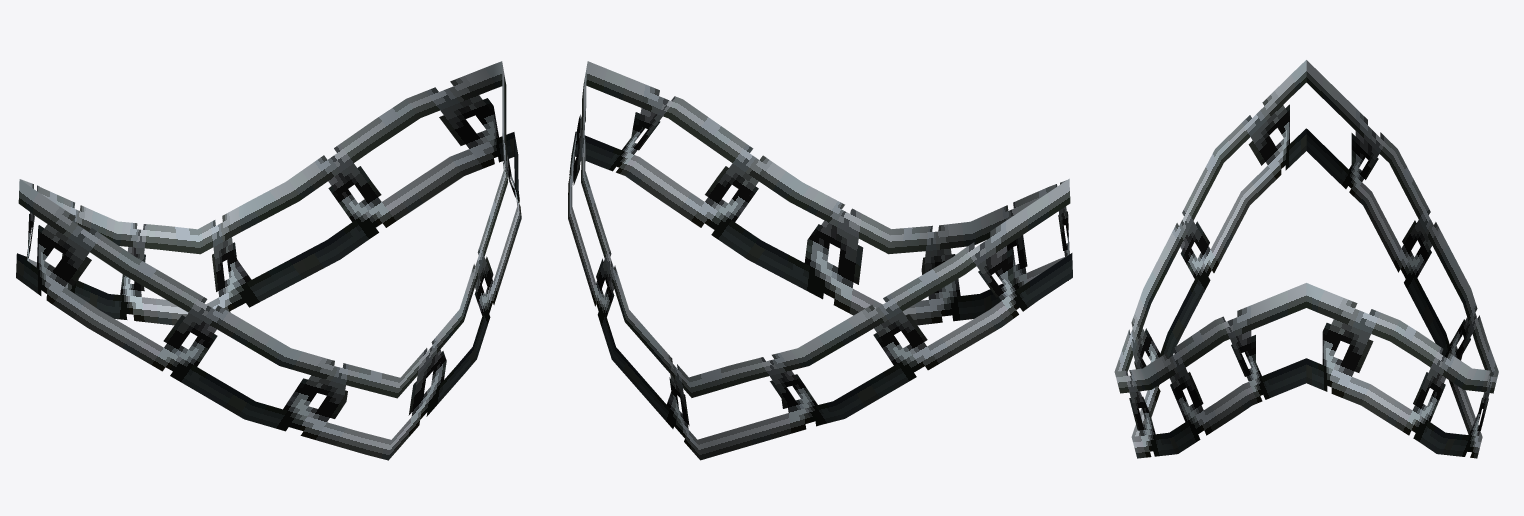
The model's file is M1_ZONE2_CHAIN.glb.
3 renders of one model, left to right at view 1: azimuth 30°, elevation 25°; view 2: azimuth 150°, elevation 25°; view 3: azimuth 270°, elevation 25°, orthographic. The views are drawn at different scales.
Visible parts, largest first — view 1: M1_ZONE2_CHAIN; view 2: M1_ZONE2_CHAIN; view 3: M1_ZONE2_CHAIN.
Boxes of the visible parts, x1,y1,x2,y2 form: M1_ZONE2_CHAIN: (16,61,521,460); M1_ZONE2_CHAIN: (568,61,1072,460); M1_ZONE2_CHAIN: (1114,60,1498,458).
Size of the model in its own units: 0.284 by 0.201 by 0.206.
Materials: 1 (1 with a texture image).
